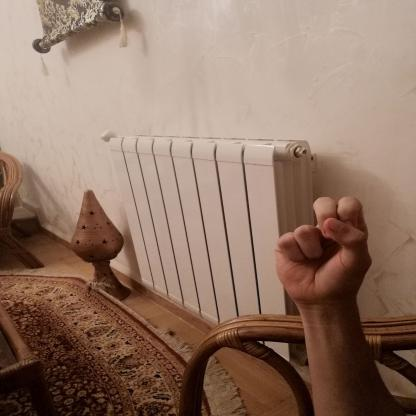QAAF: (260, 186, 386, 311)
